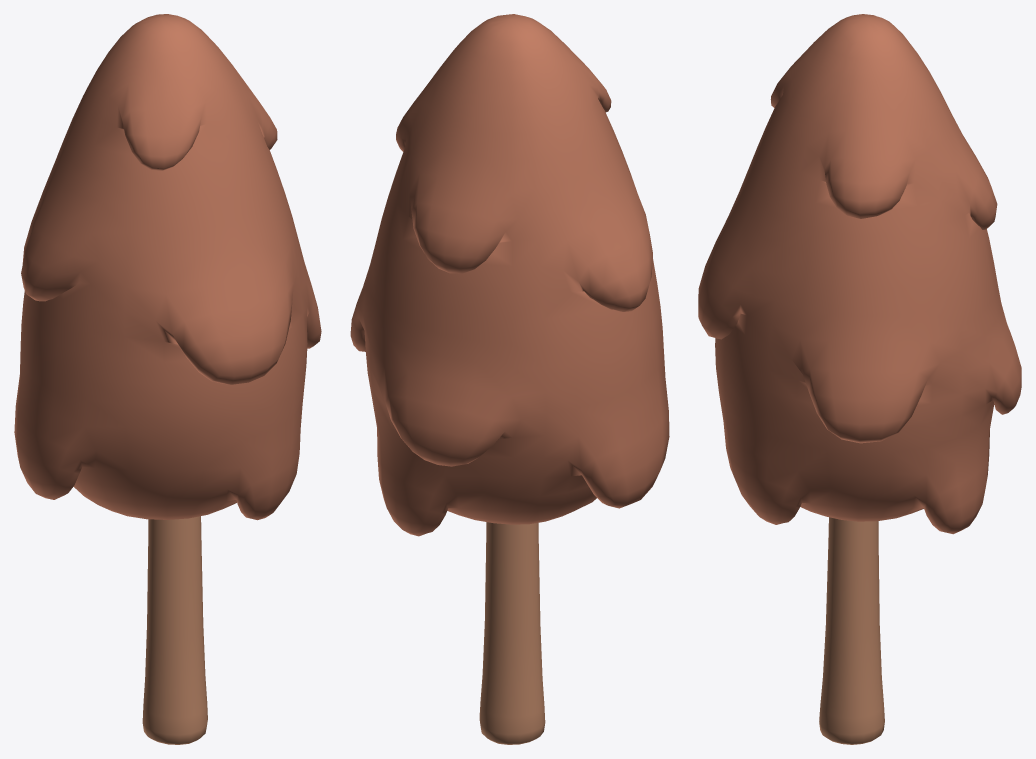
File: Tree_F_02.fbx
3 renders of one model, left to right at view 1: azimuth 30°, elevation 25°; view 2: azimuth 150°, elevation 25°; view 3: azimuth 270°, elevation 25°, orthographic.
Parts seen in each view (by area): view 1: Tree_F_02_LOD0; view 2: Tree_F_02_LOD0; view 3: Tree_F_02_LOD0.
Boxes of the visible parts, left/top/right/bottom form: Tree_F_02_LOD0: left=14, top=14, right=321, bottom=744; Tree_F_02_LOD0: left=350, top=14, right=669, bottom=744; Tree_F_02_LOD0: left=698, top=14, right=1021, bottom=744.
Size of what is drawn, in the model's own units: 582 by 1410 by 580.
